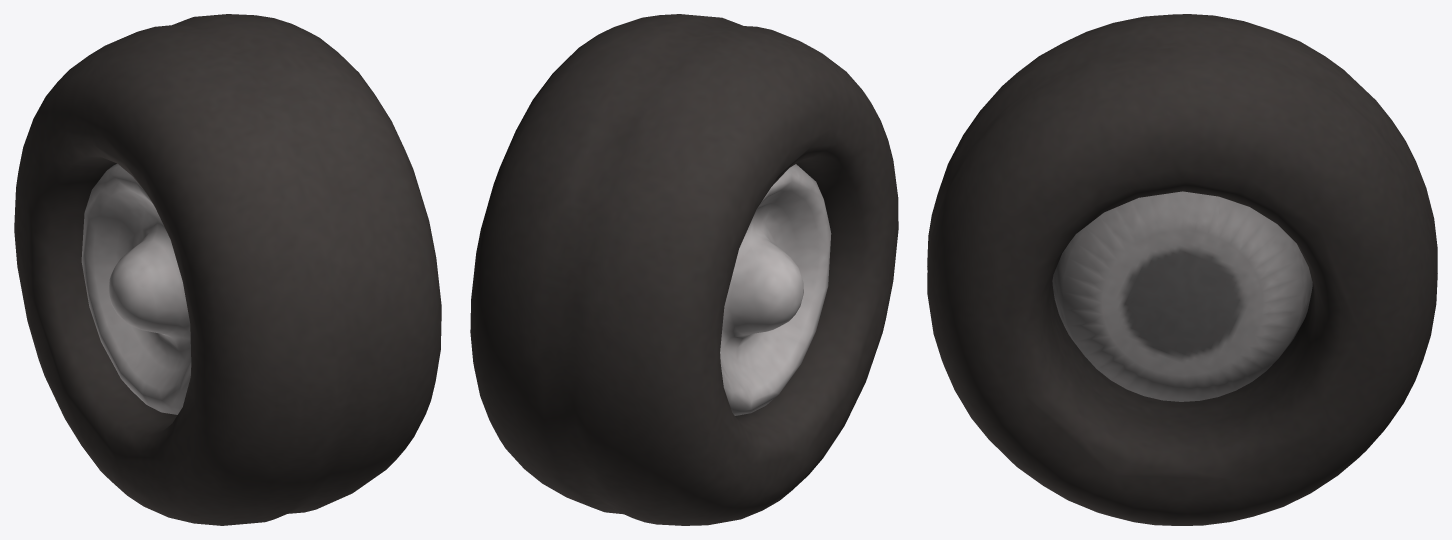
The picture shows the model from 3 angles, left to right: view 1: azimuth 30°, elevation 25°; view 2: azimuth 150°, elevation 25°; view 3: azimuth 270°, elevation 25°; orthographic projection.
Visible parts, largest first — view 1: wheel_FR; view 2: wheel_FR; view 3: wheel_FR.
Boxes of the visible parts, <box> form: wheel_FR: <box>14,14,441,525</box>; wheel_FR: <box>470,14,898,525</box>; wheel_FR: <box>927,14,1437,525</box>.
Bounding box in the file's own units: 0.1996 × 0.3773 × 0.377.
1 material, 1 textured.
